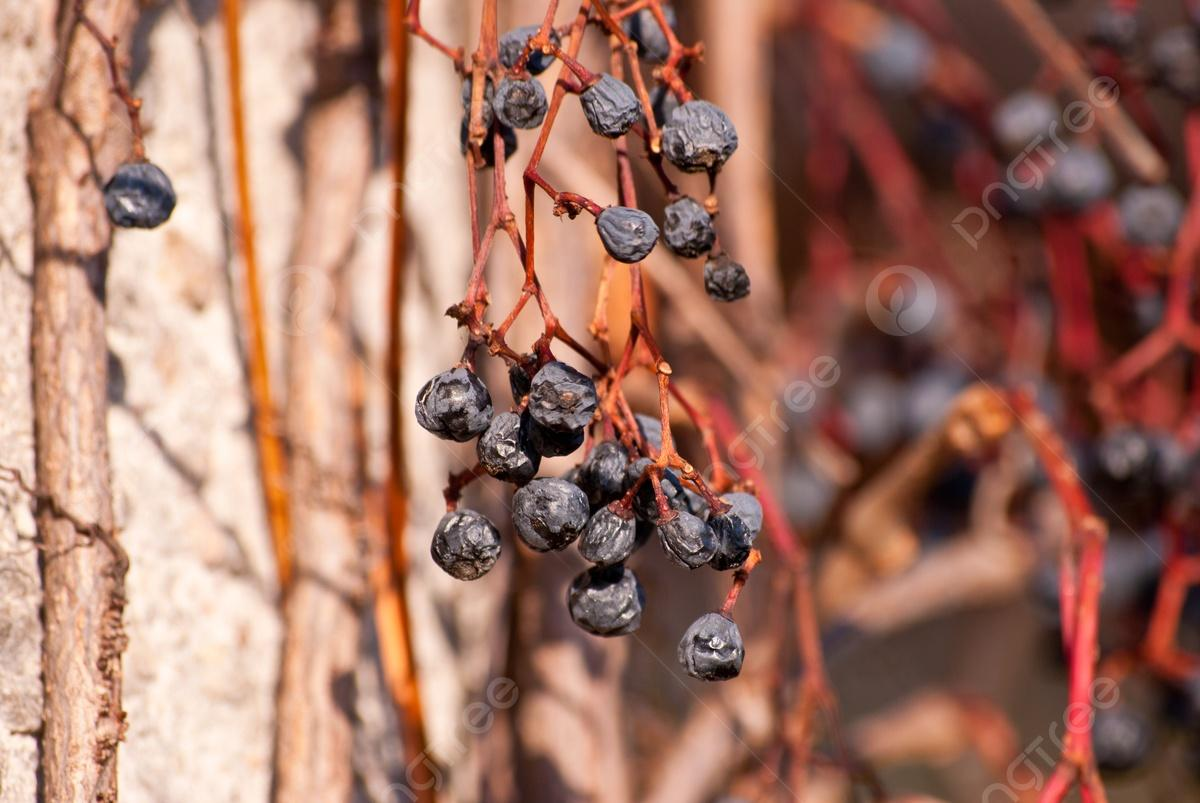Grape Rotten: (414, 21, 766, 682), (414, 356, 764, 682), (659, 99, 738, 174), (101, 160, 177, 230), (676, 612, 744, 682)
